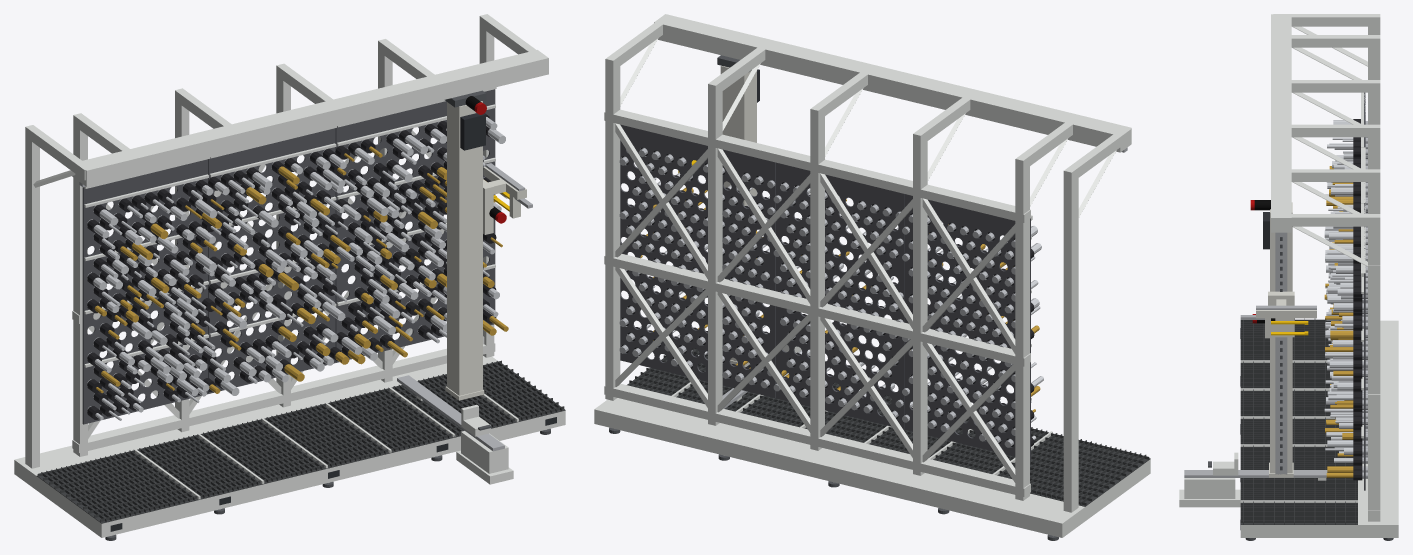
The model's file is tool_wall_magazine_3mod_white.glb.
3 renders of one model, left to right at view 1: azimuth 30°, elevation 25°; view 2: azimuth 150°, elevation 25°; view 3: azimuth 270°, elevation 25°, orthographic. The views are drawn at different scales.
Visible parts, largest first — view 1: twm_frame__truss_white, twm_tools__holder, twm_frame__anthracite_lt, twm_base__grating, twm_tools__tool_bright, twm_base__truss_white, mag_loader__struct_grey, twm_tools__tool_gold, twm_load_station__truss_white, twm_tools__steel, twm_load_station__steel, mag_loader_z__struct_grey (+1 smaller); view 2: twm_frame__truss_white, twm_frame__anthracite_lt, twm_base__truss_white, twm_tools__steel, twm_base__grating, twm_tools__holder, mag_loader__struct_grey, twm_tools__tool_bright; view 3: twm_frame__truss_white, twm_base__grating, twm_base__truss_white, twm_tools__tool_bright, twm_tools__holder, mag_loader__struct_grey, mag_loader__steel, twm_tools__tool_gold, twm_load_station__truss_white, mag_loader_z__struct_grey, twm_tools__steel, twm_load_station__steel (+5 smaller).
Part boxes in pixels (box(x1,y1,x2,y2)): twm_frame__truss_white: box(25, 14, 548, 468); twm_tools__holder: box(87, 113, 496, 419); twm_frame__anthracite_lt: box(82, 89, 495, 424); twm_base__grating: box(37, 360, 565, 523); twm_tools__tool_bright: box(93, 117, 507, 420); twm_base__truss_white: box(14, 356, 565, 537); mag_loader__struct_grey: box(445, 101, 484, 400); twm_tools__tool_gold: box(94, 146, 508, 393); twm_load_station__truss_white: box(416, 396, 513, 484); twm_tools__steel: box(87, 121, 484, 411); twm_load_station__steel: box(397, 375, 504, 451); mag_loader_z__struct_grey: box(483, 166, 526, 234); twm_frame__truss_white: box(604, 14, 1131, 512); twm_frame__anthracite_lt: box(620, 124, 1030, 460); twm_base__truss_white: box(594, 373, 1150, 537); twm_tools__steel: box(619, 148, 1015, 447); twm_base__grating: box(627, 347, 1150, 506); twm_tools__holder: box(621, 147, 1034, 446); mag_loader__struct_grey: box(720, 65, 756, 367); twm_tools__tool_bright: box(634, 158, 1043, 439); twm_frame__truss_white: box(1271, 14, 1380, 521); twm_base__grating: box(1240, 318, 1357, 524); twm_base__truss_white: box(1240, 320, 1398, 537); twm_tools__tool_bright: box(1324, 120, 1353, 462); twm_tools__holder: box(1353, 119, 1362, 480); mag_loader__struct_grey: box(1269, 202, 1293, 477); mag_loader__steel: box(1275, 232, 1287, 474); twm_tools__tool_gold: box(1324, 166, 1353, 477); twm_load_station__truss_white: box(1179, 478, 1326, 507); mag_loader_z__struct_grey: box(1256, 291, 1316, 337); twm_tools__steel: box(1362, 121, 1367, 478); twm_load_station__steel: box(1184, 470, 1327, 477).
Bounding box in the file's own units: 4.74 × 3.54 × 2.15.
